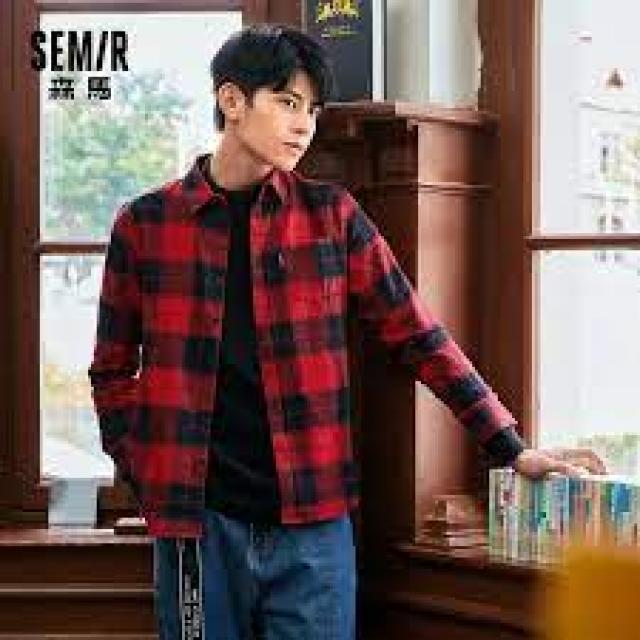plaid: (86, 161, 502, 525)
